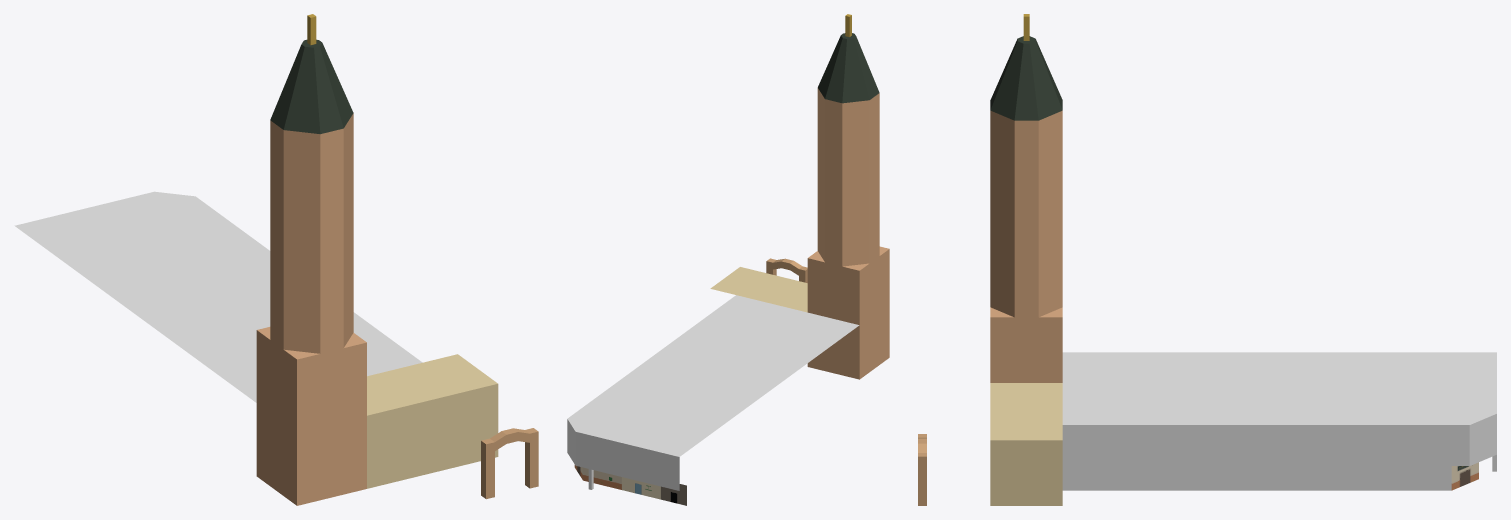
File: sebastian.glb
The picture shows the model from 3 angles, left to right: view 1: azimuth 30°, elevation 25°; view 2: azimuth 150°, elevation 25°; view 3: azimuth 270°, elevation 25°; orthographic projection. The views are drawn at different scales.
Visible parts, largest first — view 1: Church, Buildings, Arch; view 2: Buildings, Church, Arch; view 3: Buildings, Church, Arch.
Boxes of the visible parts, x1,y1,x2,y2 form: Church: (256,14,498,505); Buildings: (14,191,422,402); Arch: (481,428,538,499); Buildings: (567,295,859,505); Church: (710,14,889,379); Arch: (766,258,807,282); Buildings: (1062,352,1496,490); Church: (990,14,1062,505); Arch: (918,434,926,505).
Size of the model in its own units: 23 by 51 by 64.
9 materials, 2 textured.
